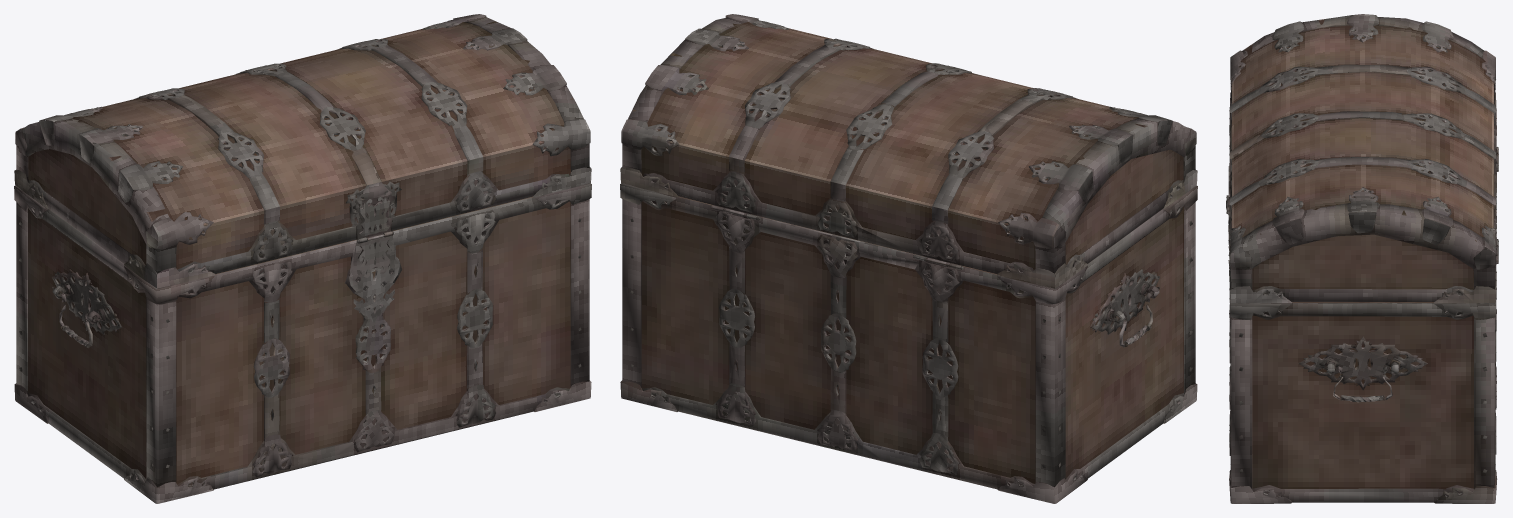
File: grounded-chest-weathered.glb
3 views of the same model, side by side, from view 1: azimuth 30°, elevation 25°; view 2: azimuth 150°, elevation 25°; view 3: azimuth 270°, elevation 25° (orthographic). The views are drawn at different scales.
Visible parts, largest first — view 1: grounded-chest-weathered runtime mesh; view 2: grounded-chest-weathered runtime mesh; view 3: grounded-chest-weathered runtime mesh.
Boxes of the visible parts, x1,y1,x2,y2 form: grounded-chest-weathered runtime mesh: (14,14,591,503); grounded-chest-weathered runtime mesh: (620,14,1197,503); grounded-chest-weathered runtime mesh: (1226,14,1498,503).
Bounding box in the file's own units: 1.1 × 0.709 × 0.5993.
Materials: 1 (1 with a texture image).
